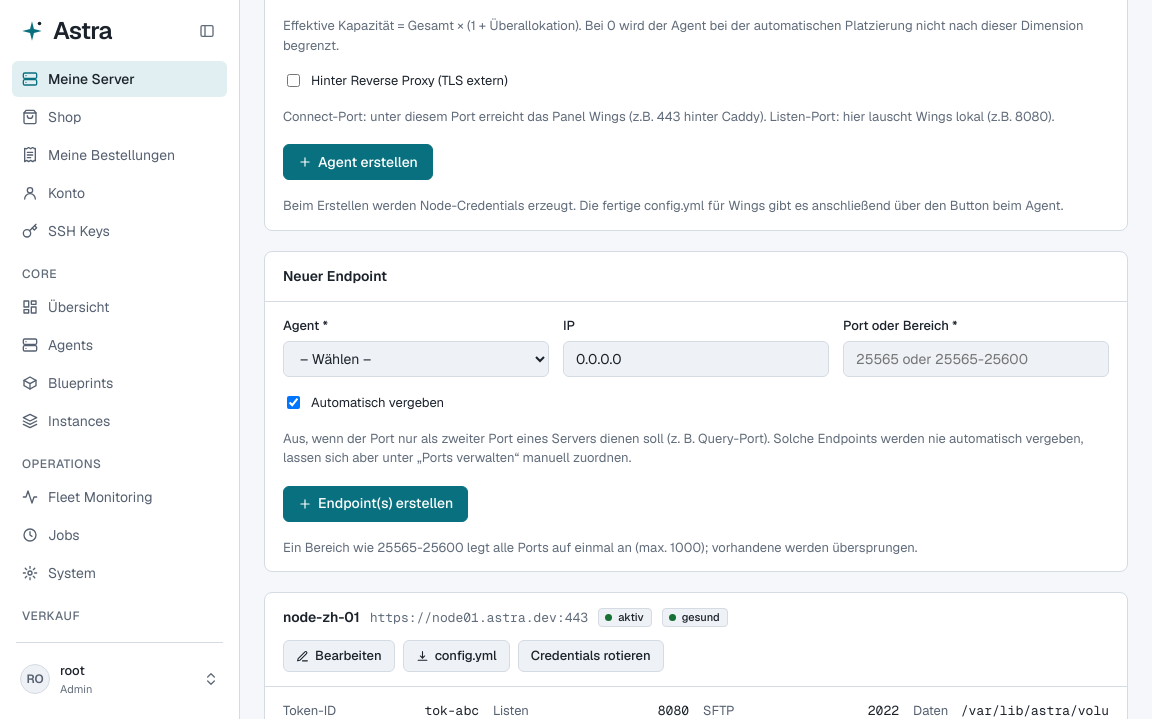
Test case: AdminAgentsPage › legt einen Endpoint-Bereich an
(page scrolled)
Expected: the heading "node-zh-01" is shown, [283, 607, 360, 628]
Select "node-zh-01" in the dropdown labelled "Agent *" at [416, 359], box [283, 341, 549, 377]
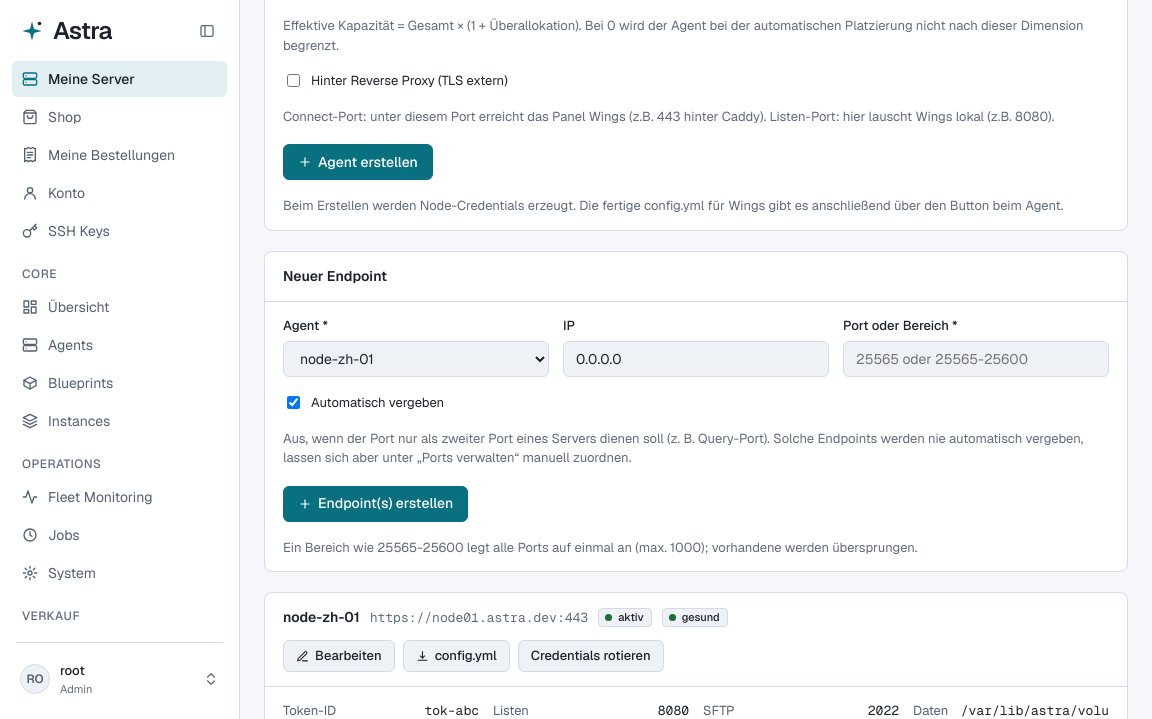
Type "25565-25567" into the field labelled "Port oder Bereich *".
click(976, 359); type("25565-25567")  # box [843, 341, 1109, 377]
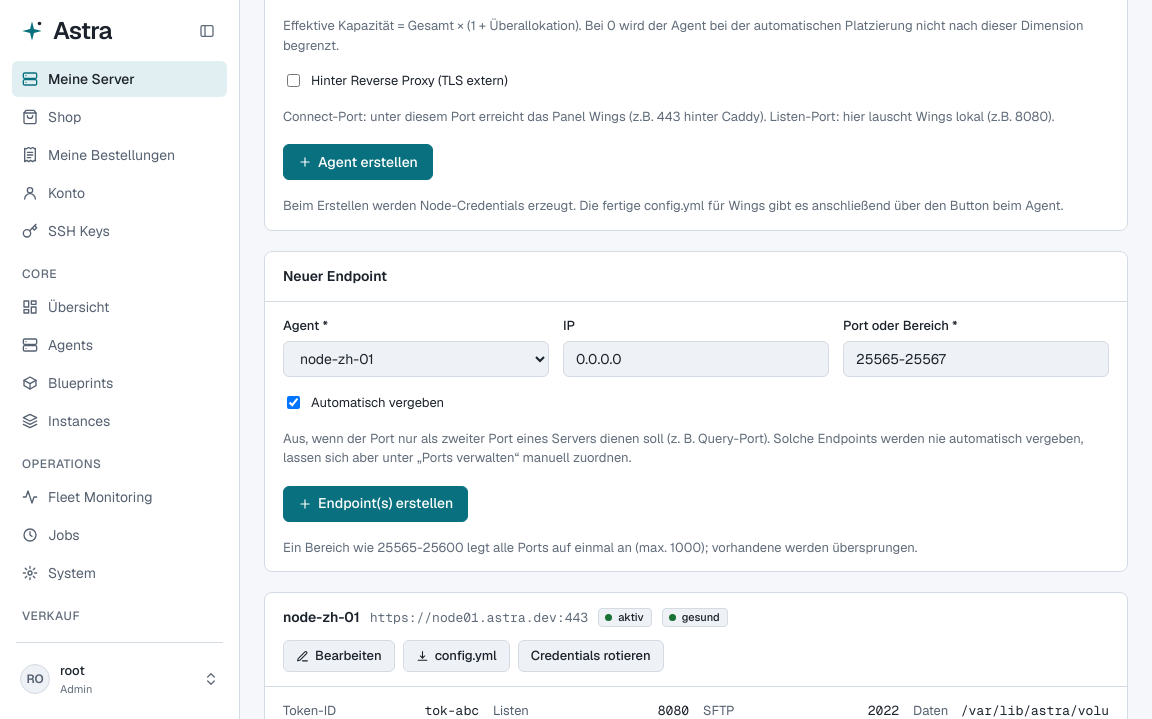
Click the button "Endpoint(s) erstellen".
click(376, 504)  # box [283, 486, 468, 522]
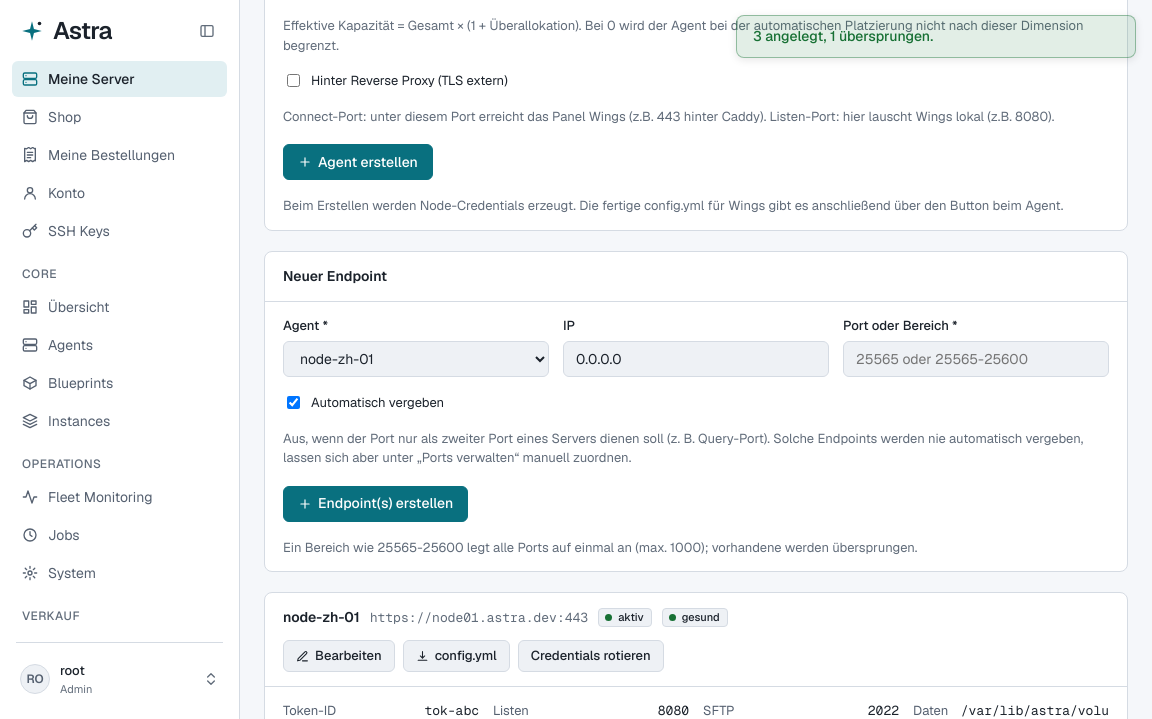
Now the text "3 angelegt, 1 übersprungen." is shown, box [736, 15, 1136, 58]
